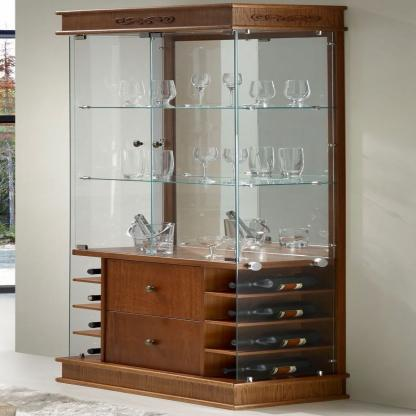Cupboard: (58, 4, 350, 412)
